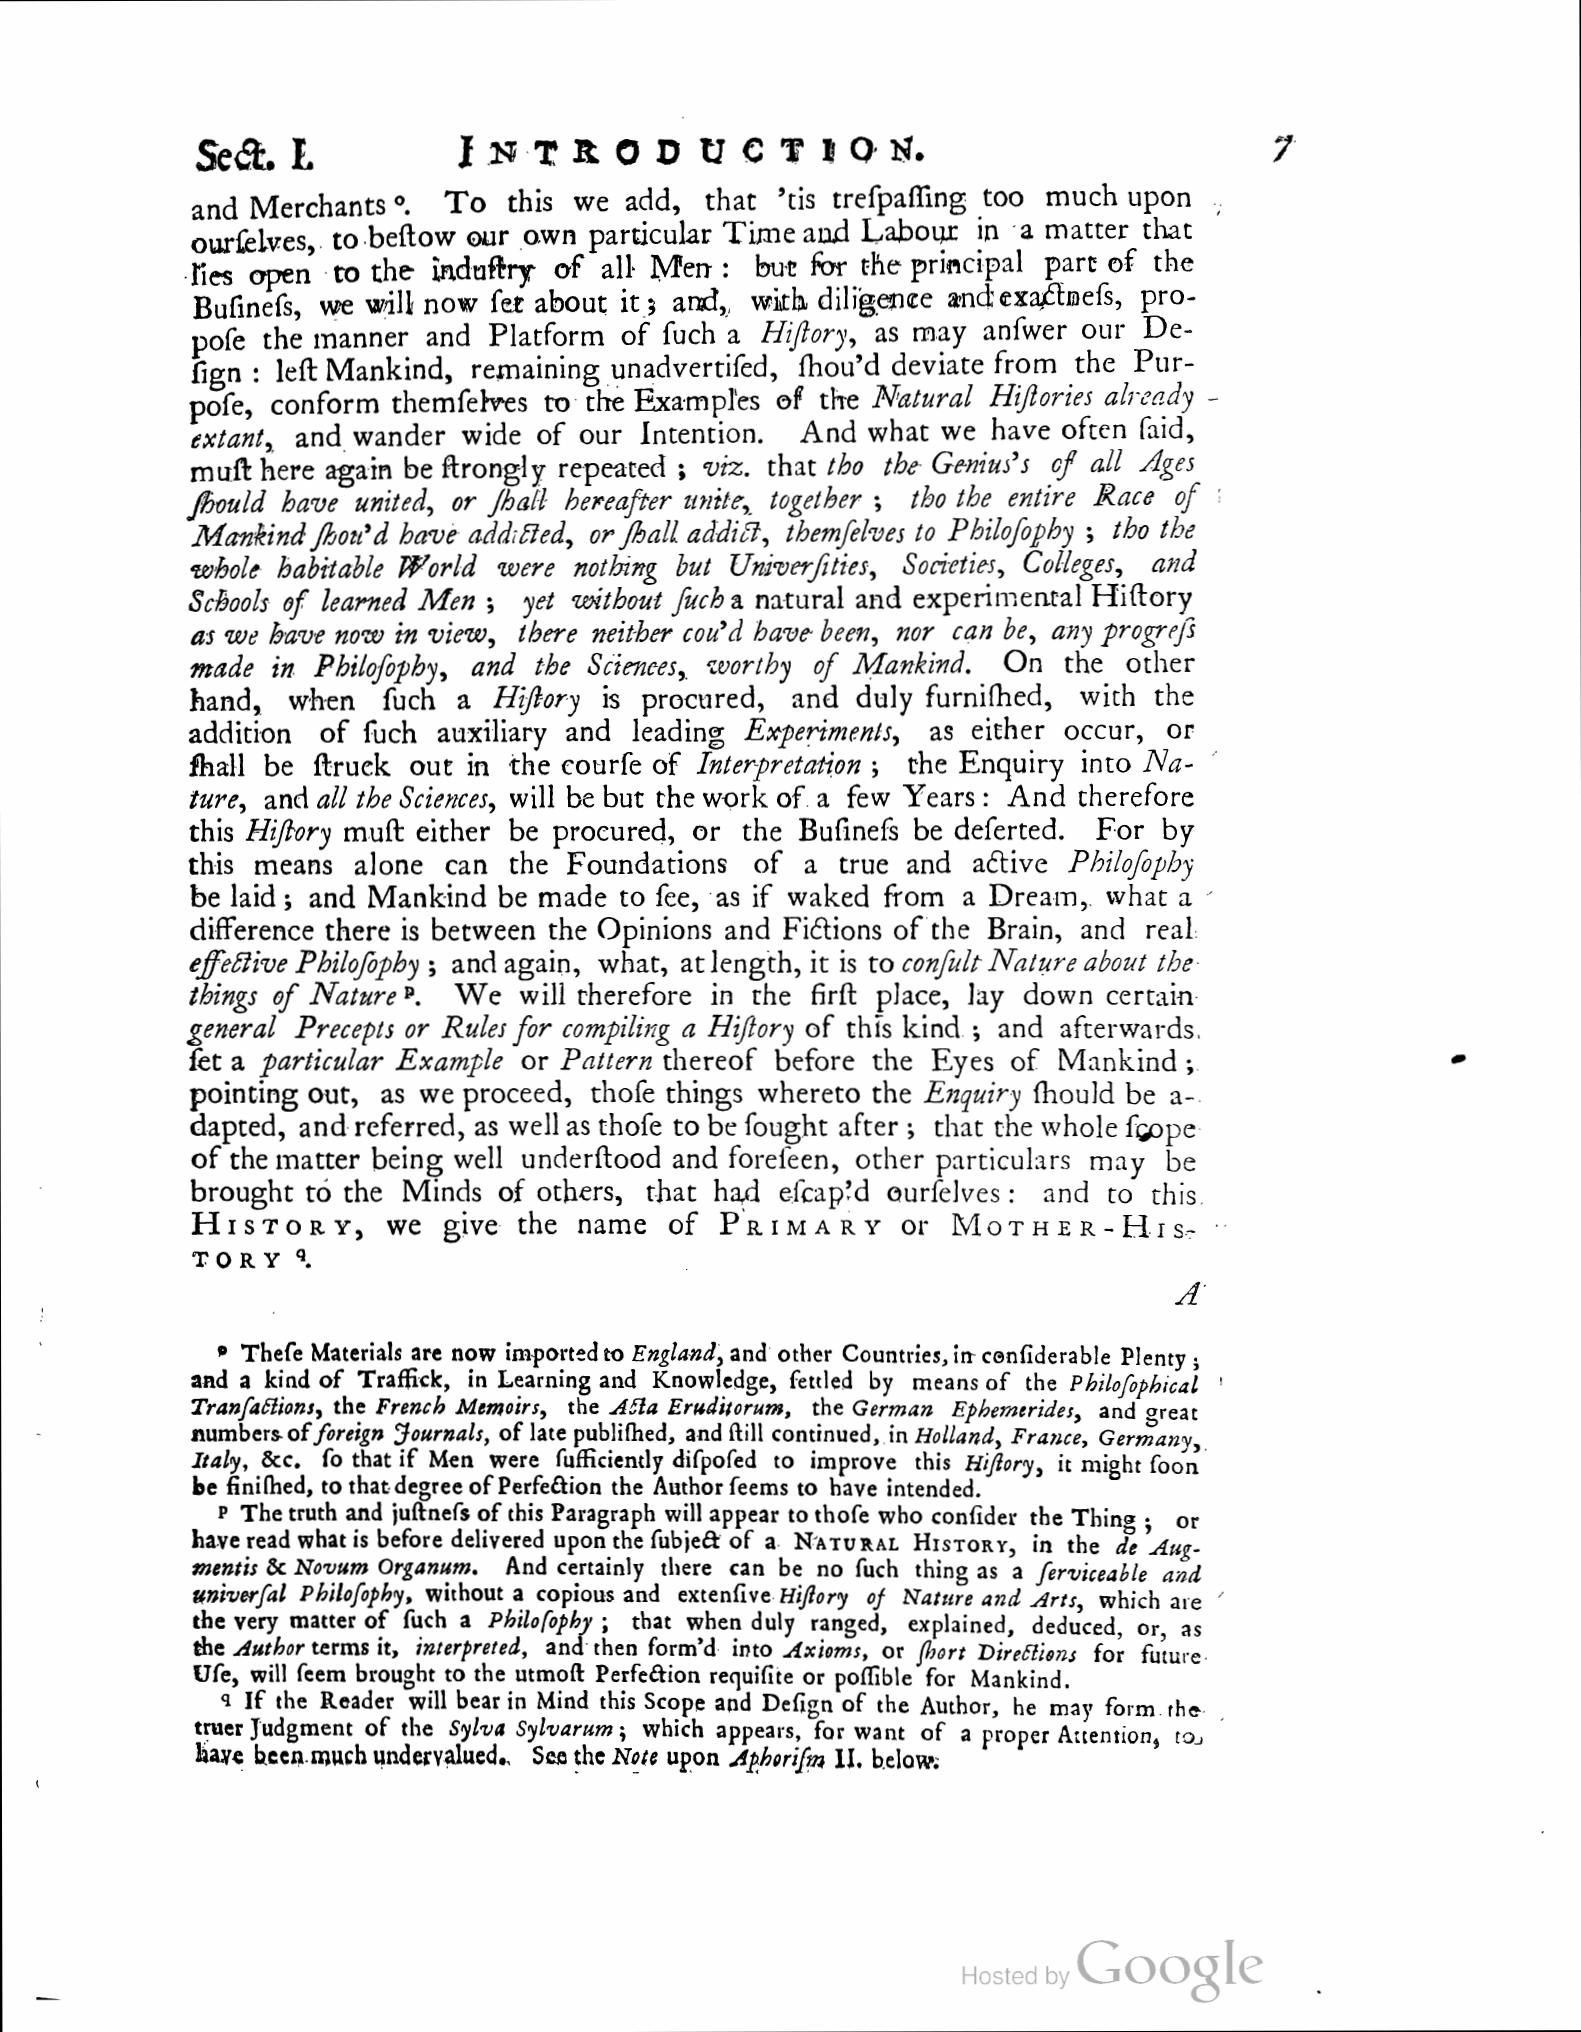bottom_p: (183, 183, 1210, 1273)
catchword: (1172, 1278, 1210, 1310)
footnotes: (188, 1338, 1218, 1780)
header: (193, 132, 933, 173)
page_num: (1260, 135, 1302, 163)
